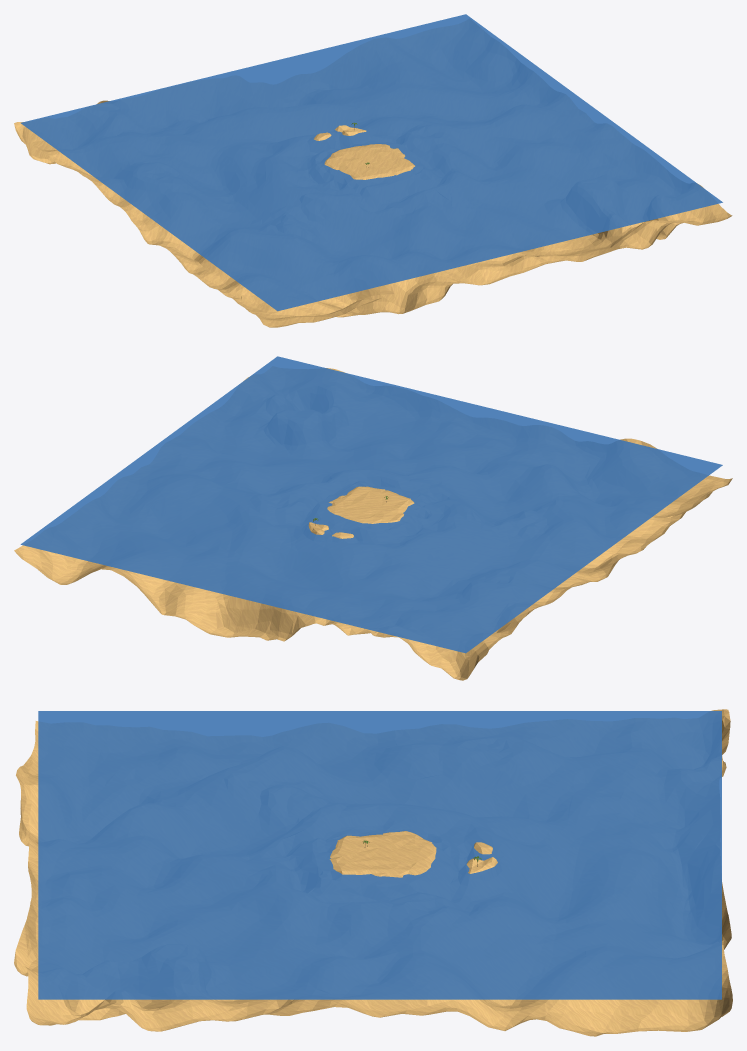
Rendered from island.glb.
3 renders of one model, top to bottom at view 1: azimuth 30°, elevation 25°; view 2: azimuth 150°, elevation 25°; view 3: azimuth 270°, elevation 25°, orthographic. The views are drawn at different scales.
Parts seen in each view (by area): view 1: Water, Terrain; view 2: Water, Terrain; view 3: Water, Terrain.
Part boxes in pixels (x1=…): Water: x1=21, y1=14, x2=722, y2=311; Terrain: x1=14, y1=100, x2=732, y2=327; Water: x1=20, y1=356, x2=722, y2=653; Terrain: x1=14, y1=368, x2=732, y2=680; Water: x1=38, y1=711, x2=721, y2=999; Terrain: x1=14, y1=709, x2=732, y2=1036.
Bounding box in the file's own units: 520 × 66.64 × 526.
3 materials, 3 textured.
